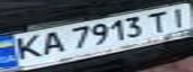1: (106, 17, 130, 43)
3: (121, 14, 148, 39)
7: (66, 24, 90, 51)
9: (87, 20, 112, 47)
A: (36, 28, 69, 57)
I: (163, 3, 193, 28)
K: (6, 33, 48, 63)
T: (142, 8, 175, 34)
